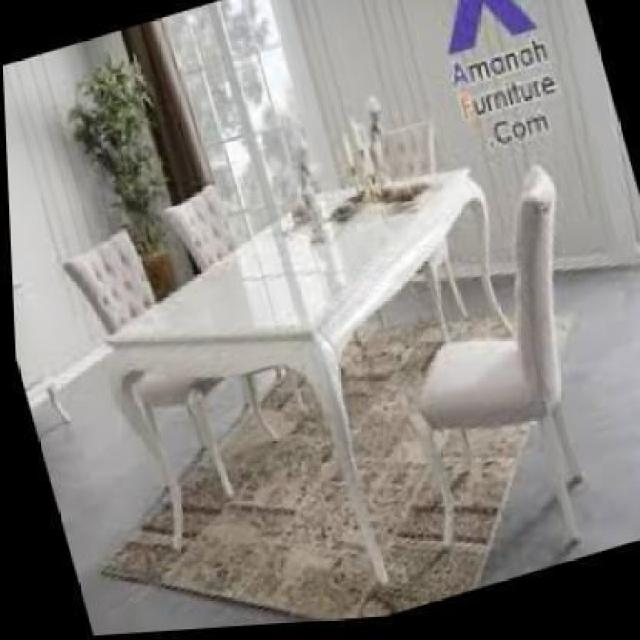tables: (102, 166, 480, 585)
